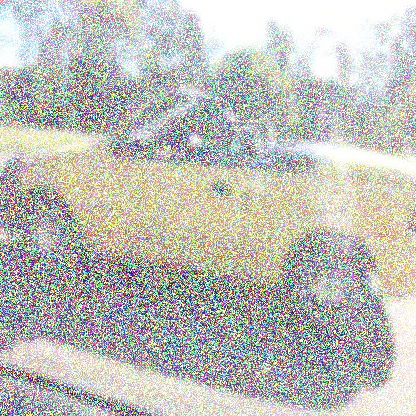Vehicle: (1, 80, 414, 348)
